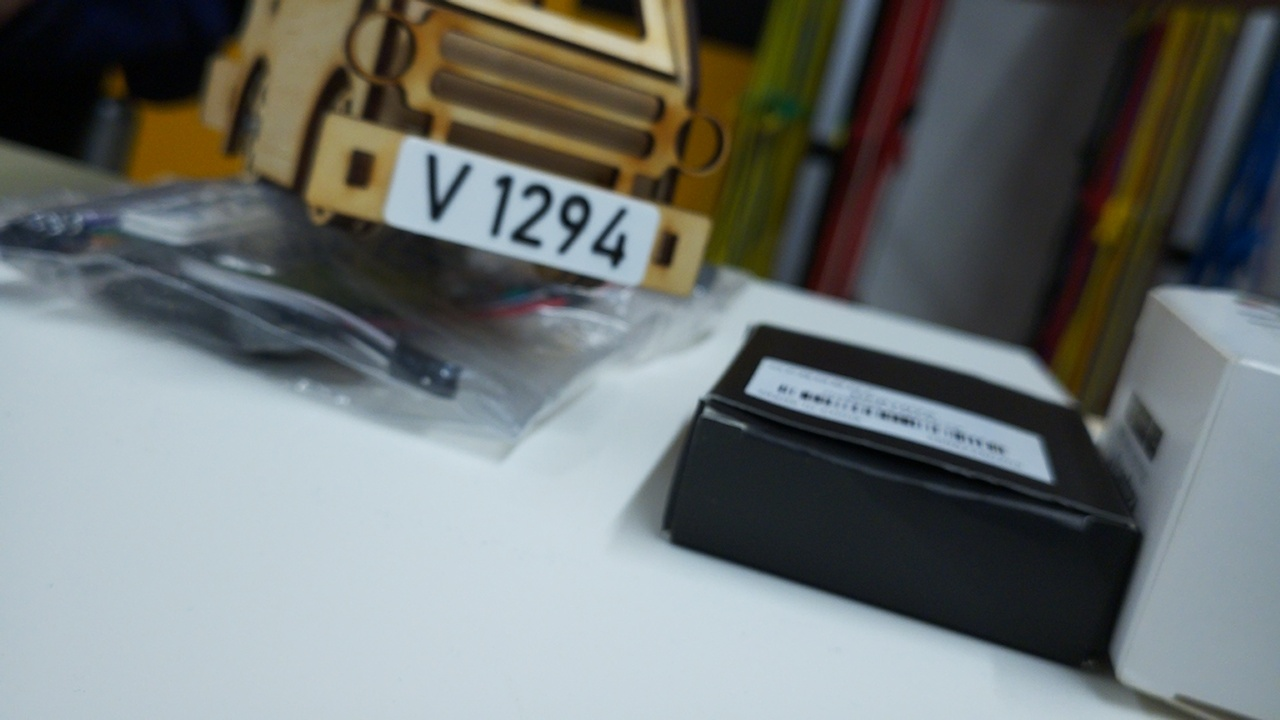license_plate: (380, 131, 663, 290)
